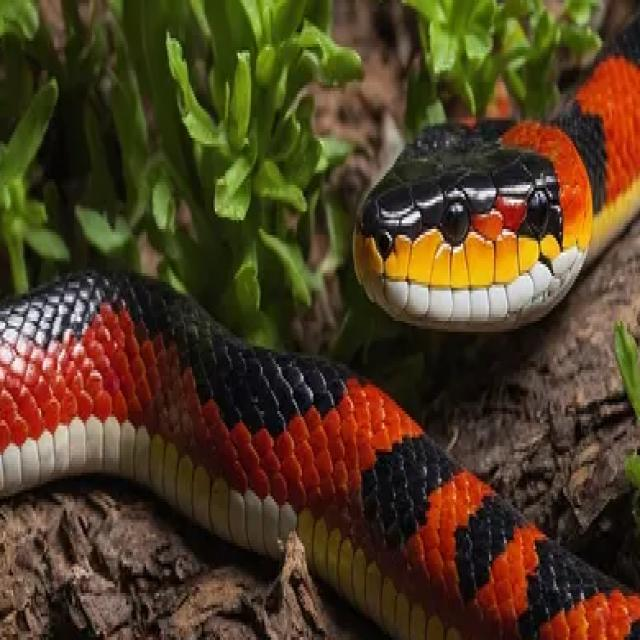snake: (0, 0, 640, 640), (349, 0, 640, 334)
